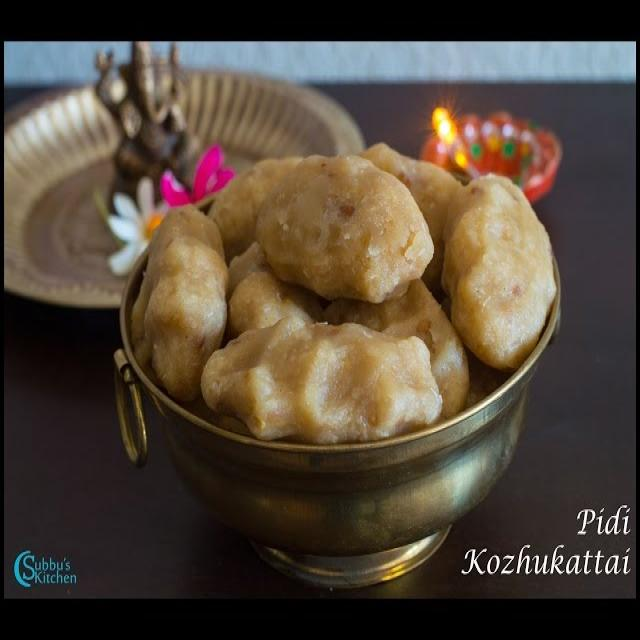pidi kolukattai: (201, 316, 441, 443), (256, 155, 433, 303), (442, 176, 555, 369), (325, 280, 469, 419), (131, 205, 227, 400), (360, 143, 461, 291), (208, 156, 298, 260), (229, 241, 322, 337)
